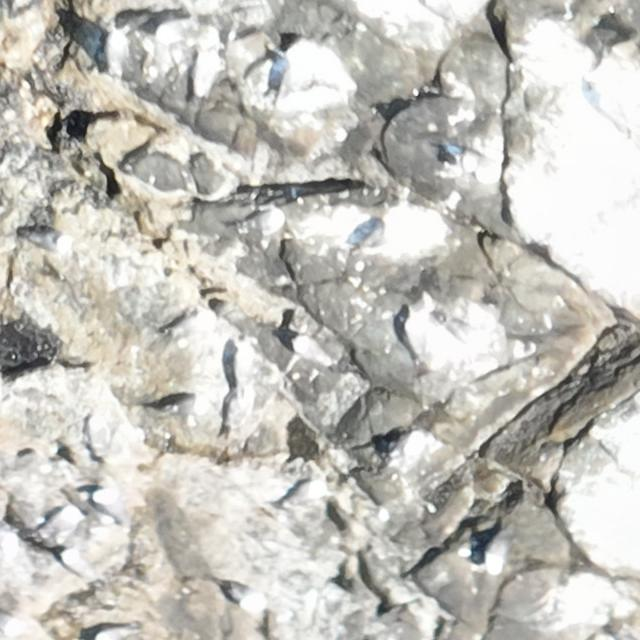umineko: (435, 309, 487, 347), (94, 486, 136, 533), (16, 222, 74, 256), (222, 574, 269, 614), (348, 219, 396, 257), (38, 506, 80, 544), (404, 314, 433, 364), (275, 62, 306, 105), (484, 526, 511, 574), (237, 207, 288, 232), (101, 30, 128, 74), (292, 337, 333, 365), (170, 308, 213, 334), (62, 547, 98, 578), (86, 409, 110, 454), (290, 479, 325, 506), (162, 397, 199, 415)
